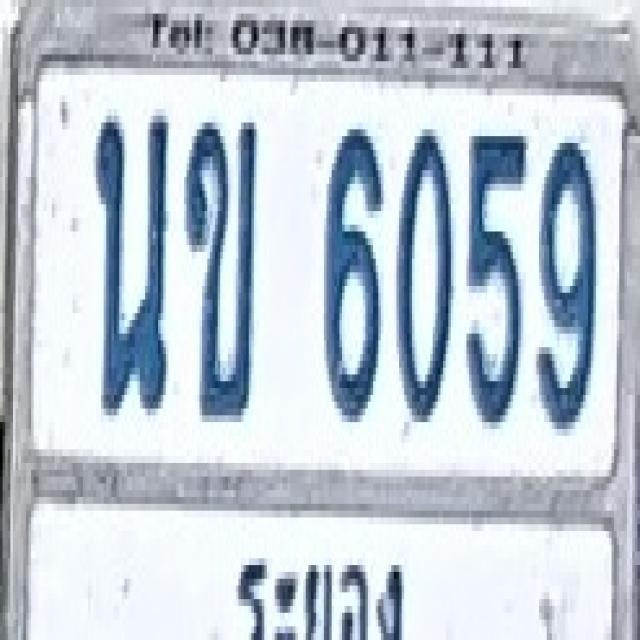0: (395, 123, 452, 422)
5: (465, 126, 527, 425)
6: (323, 123, 382, 422)
9: (536, 136, 596, 429)
A02: (184, 116, 256, 422)
A25: (94, 102, 168, 415)
RYG: (233, 531, 408, 640)
